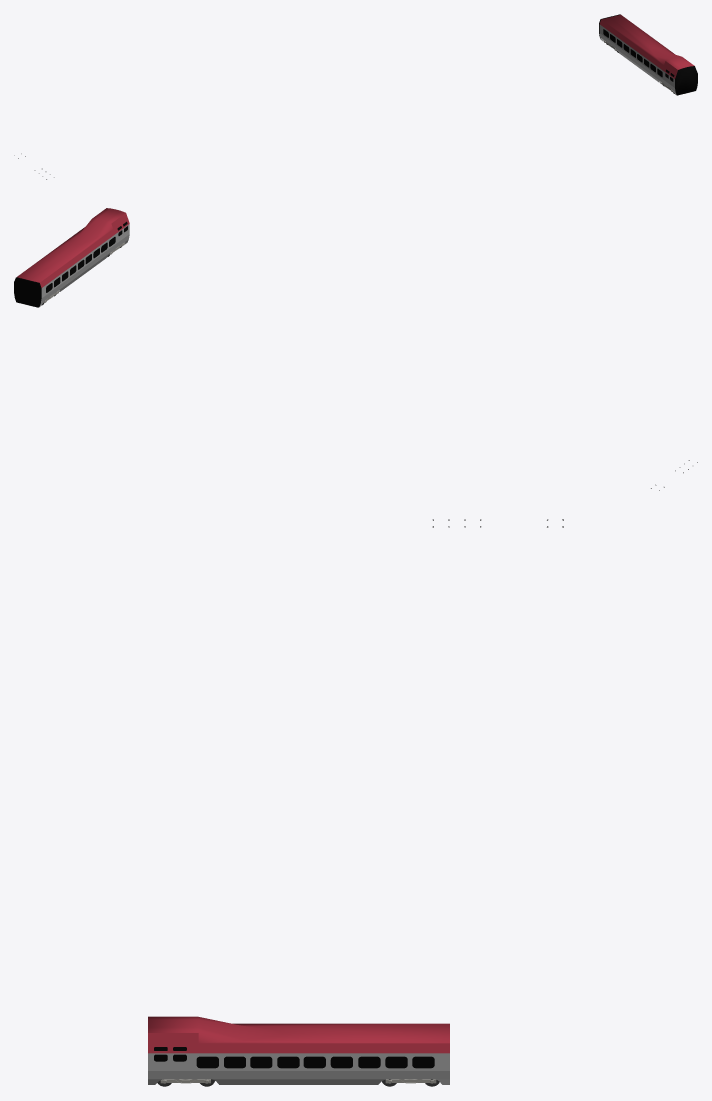
Rendered from thalys_car2.gltf.
3 renders of one model, top to bottom at view 1: azimuth 30°, elevation 25°; view 2: azimuth 150°, elevation 25°; view 3: azimuth 270°, elevation 25°, orthographic. The views are drawn at different scales.
Parts seen in each view (by area): view 1: Sketchup; view 2: Sketchup; view 3: Sketchup.
Boxes of the visible parts, bbox=[...] form: Sketchup: bbox=[599, 14, 697, 95]; Sketchup: bbox=[14, 208, 129, 307]; Sketchup: bbox=[148, 1016, 449, 1084].
Bounding box in the file's own units: 89.78 × 4.14 × 27.87.
